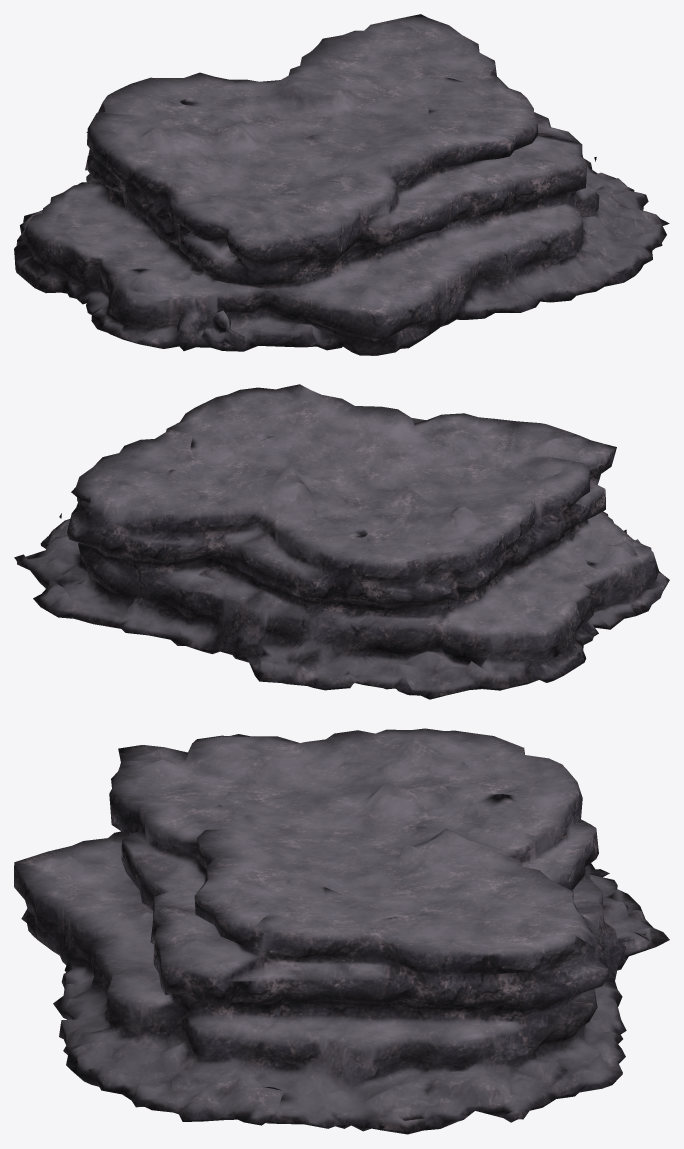
File: Prop_RockSlab.fbx
3 renders of one model, top to bottom at view 1: azimuth 30°, elevation 25°; view 2: azimuth 150°, elevation 25°; view 3: azimuth 270°, elevation 25°, orthographic. The views are drawn at different scales.
Parts seen in each view (by area): view 1: Prop_RockSlab; view 2: Prop_RockSlab; view 3: Prop_RockSlab.
Boxes of the visible parts, x1=… form: Prop_RockSlab: x1=14, y1=14, x2=669, y2=355; Prop_RockSlab: x1=14, y1=384, x2=669, y2=699; Prop_RockSlab: x1=14, y1=728, x2=669, y2=1134.
Size of the model in its own units: 6.43 by 1.5 by 5.65.
